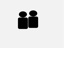human: (16, 9, 28, 29), (28, 9, 38, 29)
